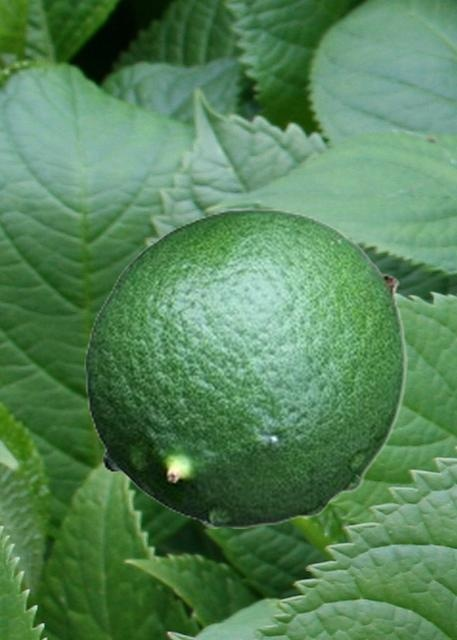calamansi: (84, 207, 406, 527)
